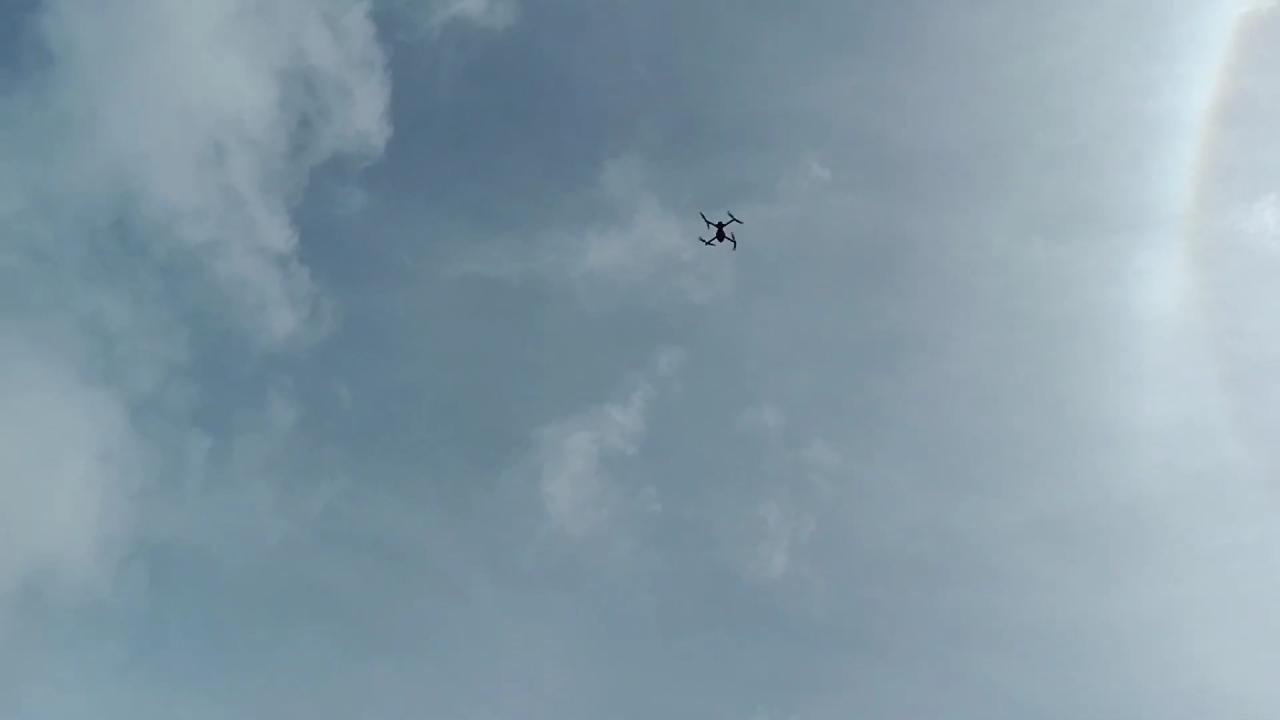Drone: (687, 197, 750, 256)
